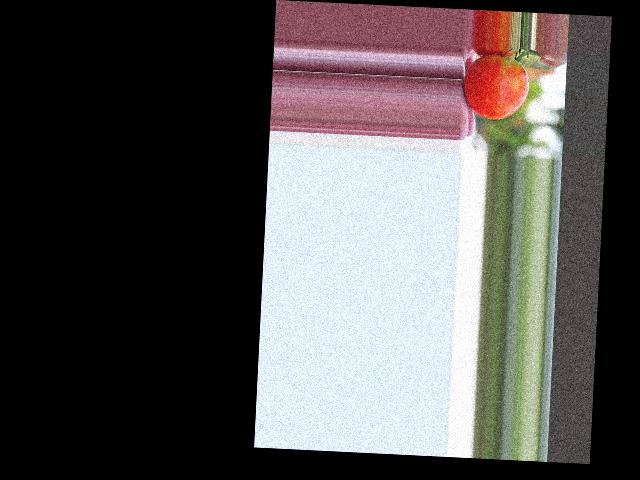tomato: (462, 54, 530, 121)
